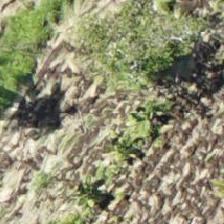coconut_tree: (12, 93, 102, 183)
